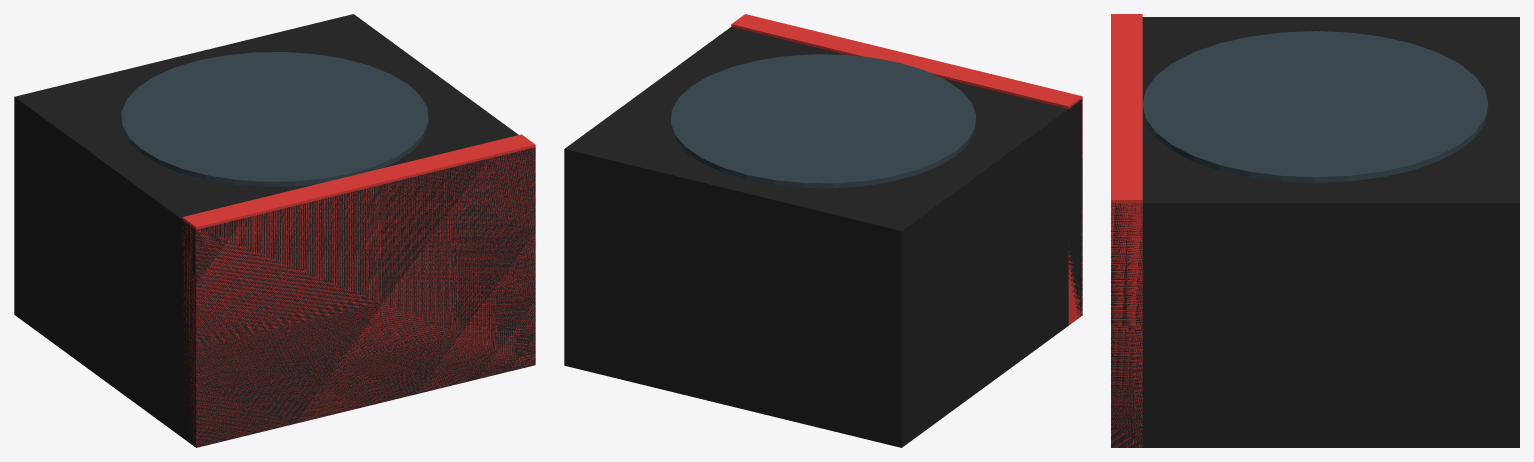
File: Power Supply.fbx
The picture shows the model from 3 angles, left to right: view 1: azimuth 30°, elevation 25°; view 2: azimuth 150°, elevation 25°; view 3: azimuth 270°, elevation 25°; orthographic projection. The views are drawn at different scales.
Parts seen in each view (by area): view 1: PSU; view 2: PSU; view 3: PSU.
Part boxes in pixels (box(x1,y1,x2,y2)): PSU: box(14, 14, 535, 447); PSU: box(564, 14, 1082, 447); PSU: box(1111, 14, 1519, 447).
Size of the model in its own units: 14 by 8.8 by 13.
